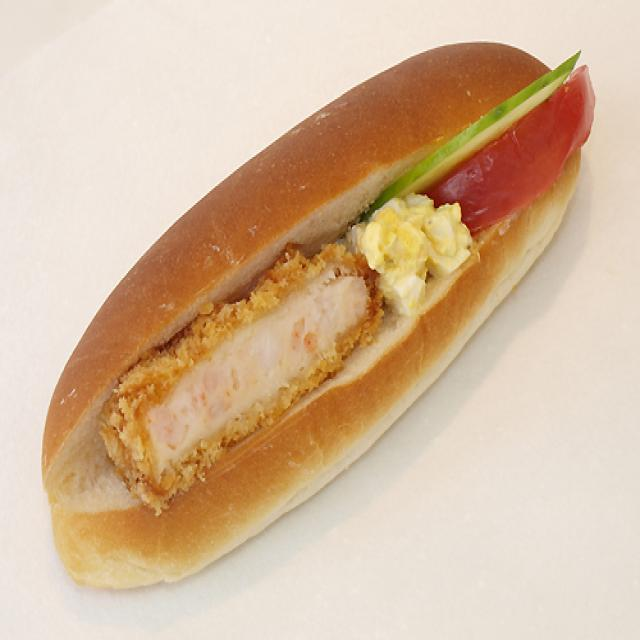三明治: (32, 21, 603, 614)
